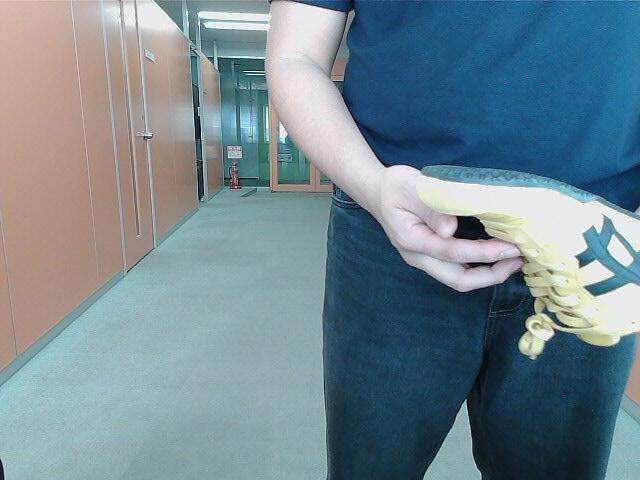Shoes: (412, 161, 640, 342)
